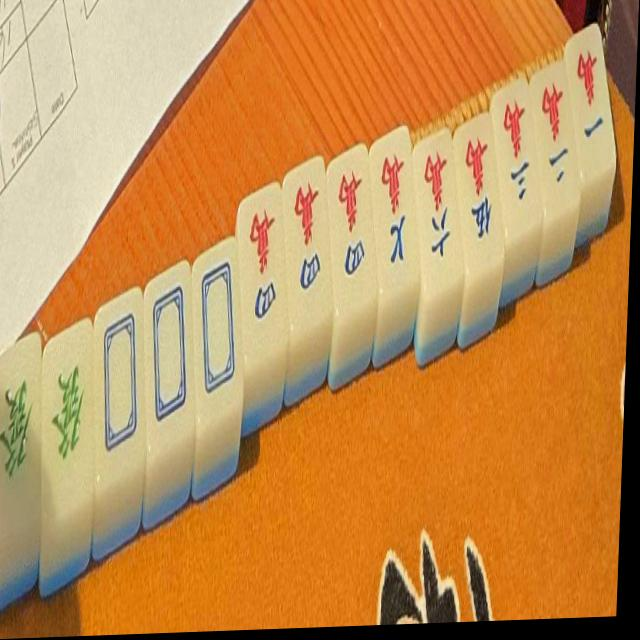1C: (571, 22, 616, 162)
2C: (539, 70, 574, 200)
3C: (500, 95, 537, 217)
4C: (244, 197, 287, 340), (331, 161, 374, 294), (288, 176, 330, 311)
5C: (459, 128, 502, 265)
6C: (418, 146, 460, 271)
7C: (377, 141, 418, 276)
GD: (40, 349, 93, 489), (0, 359, 39, 505)
WD: (94, 305, 148, 461), (147, 281, 194, 446), (194, 256, 242, 400)
